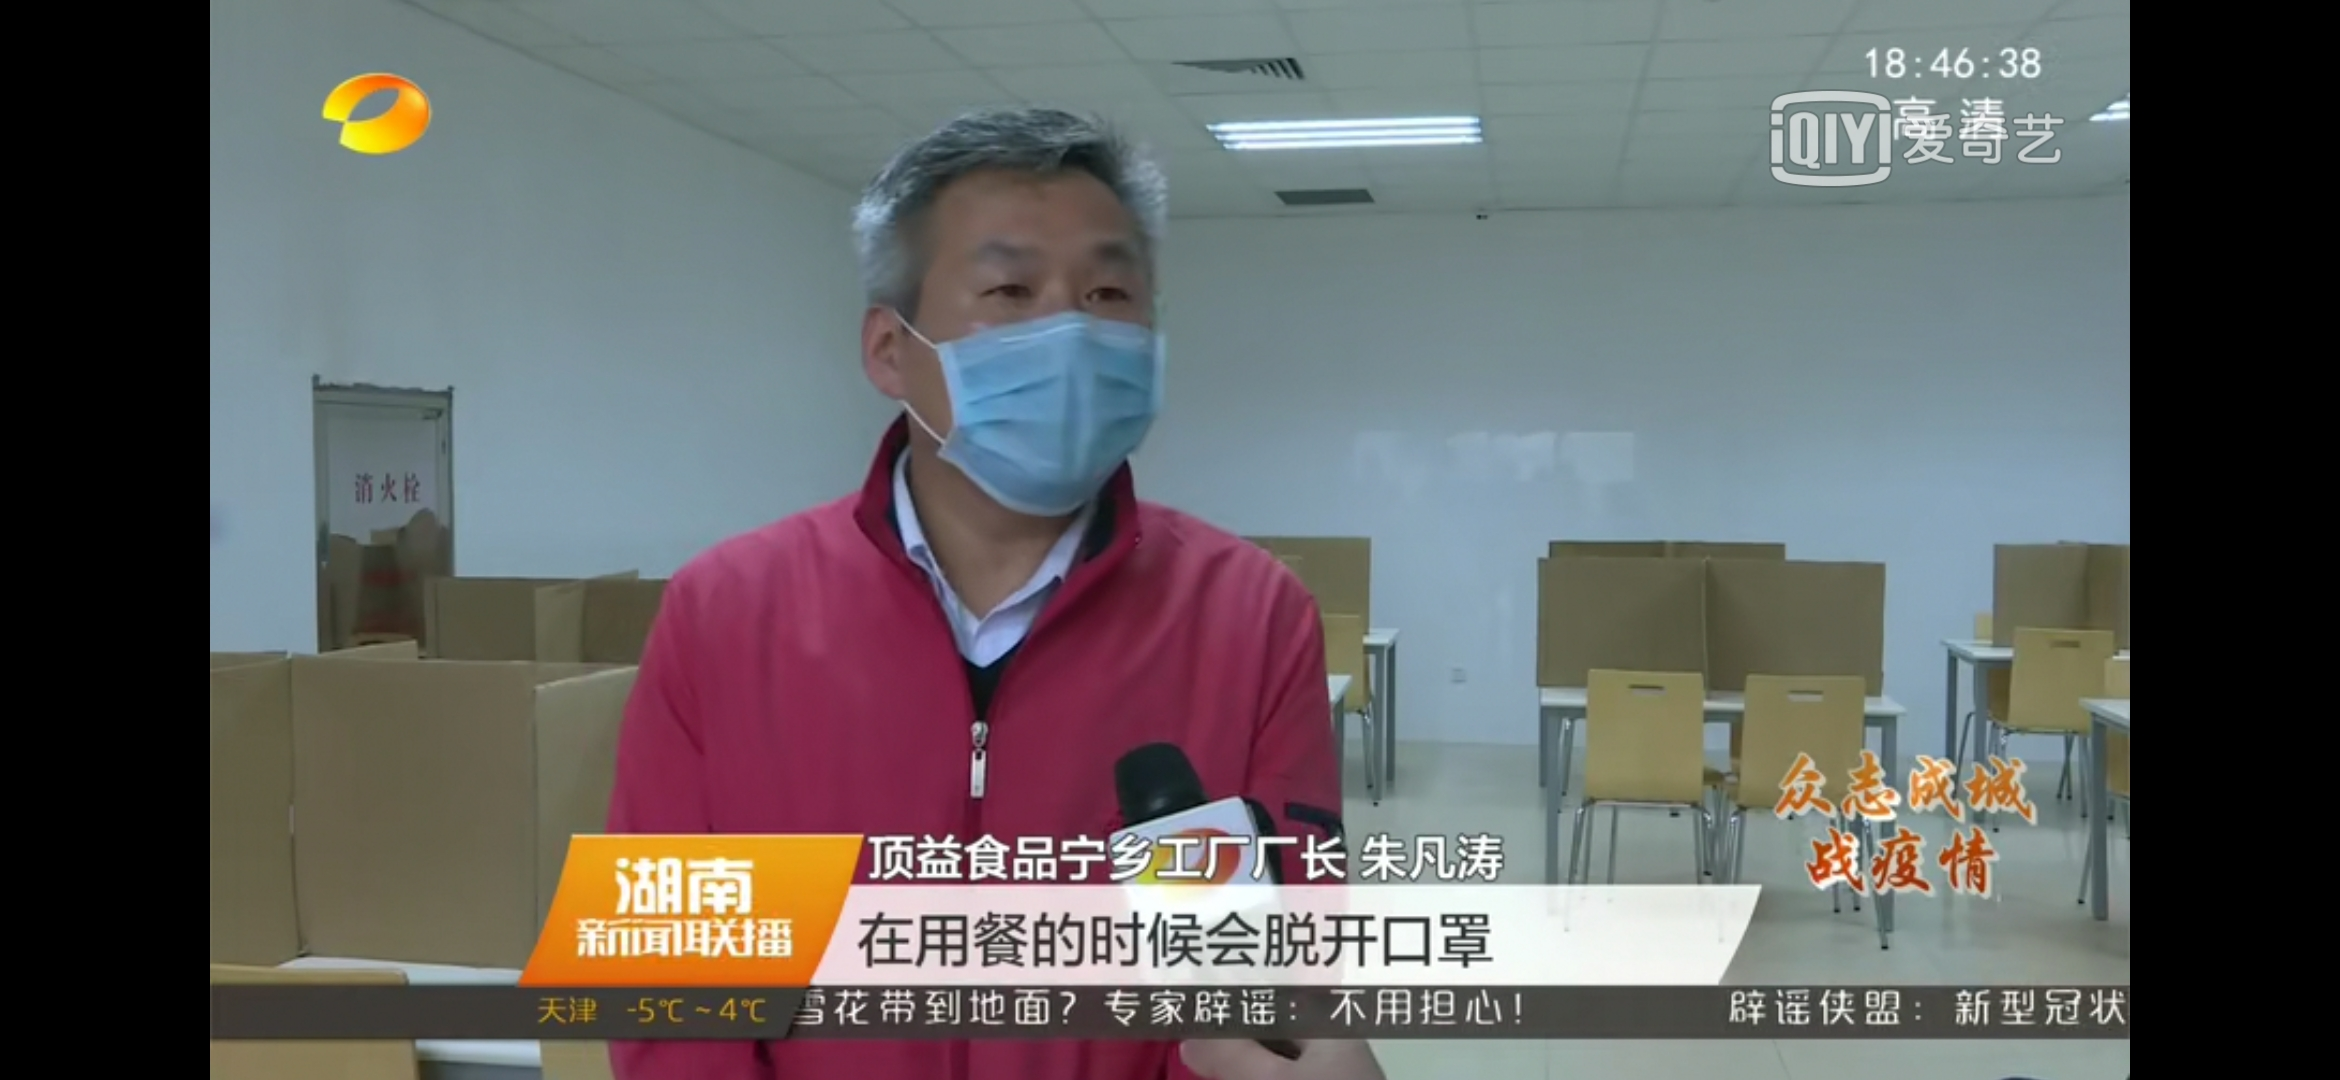correctlyWear: (855, 222, 1160, 518)
